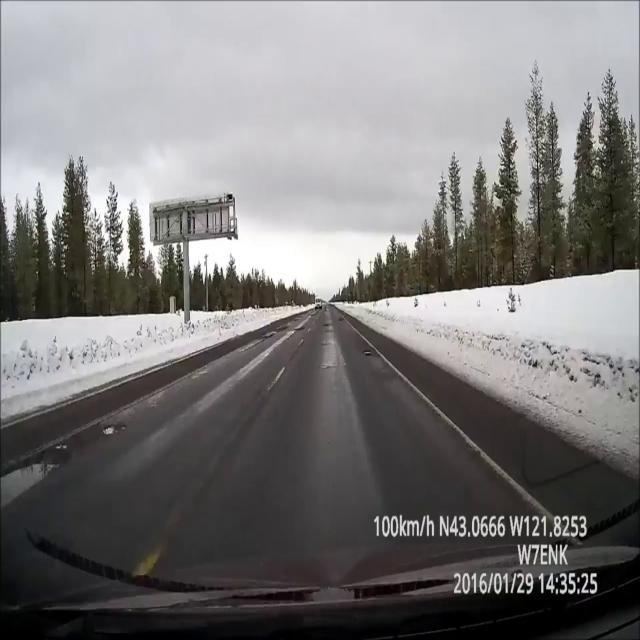pothole: (0, 449, 60, 528), (242, 316, 292, 358), (94, 412, 133, 446), (354, 338, 384, 368), (317, 354, 339, 381), (319, 327, 339, 350), (293, 316, 308, 339), (306, 310, 321, 322)
